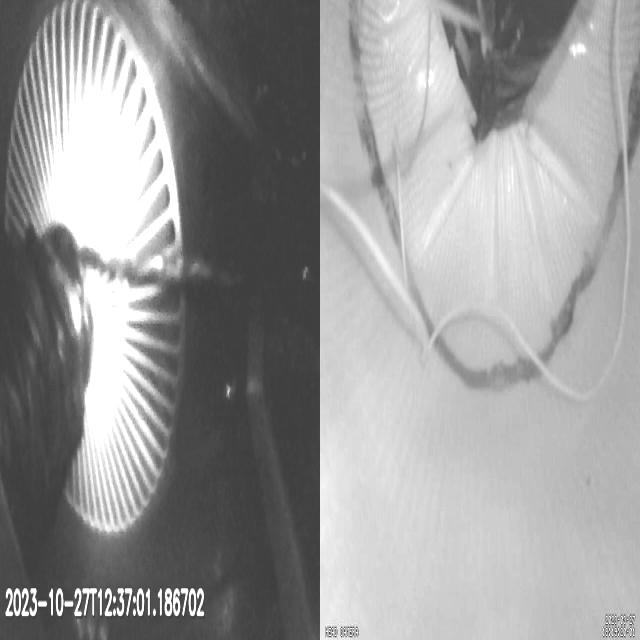red-circle: (346, 0, 639, 396)
